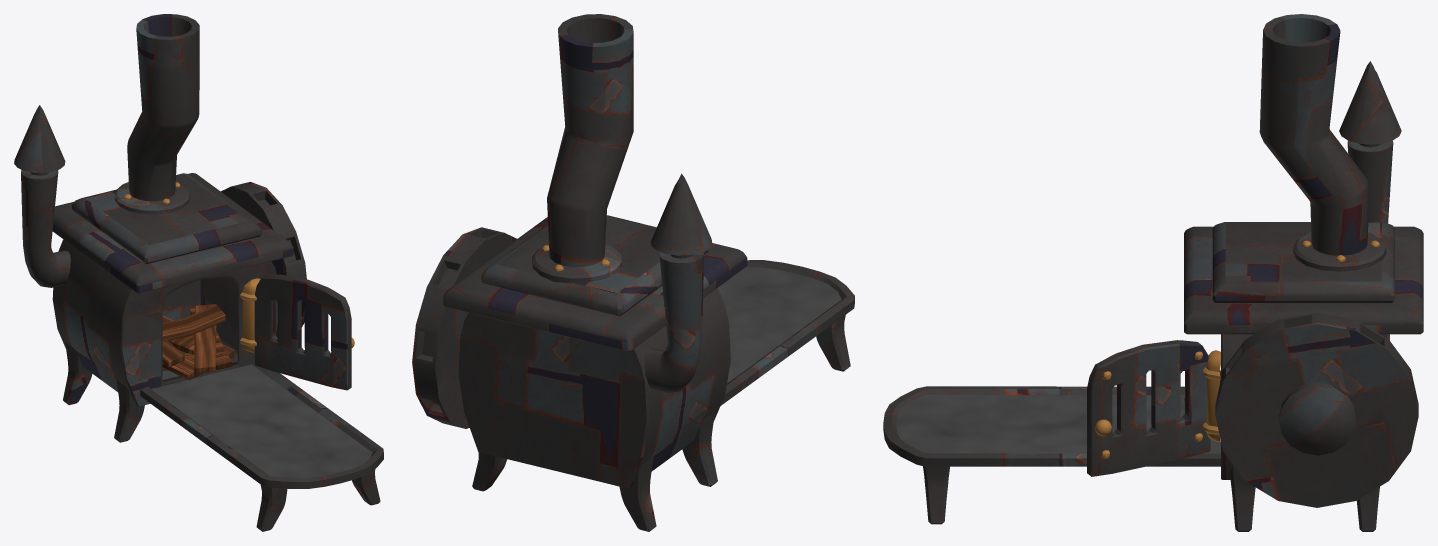
Rendered from Furnace.fbx.
3 renders of one model, left to right at view 1: azimuth 30°, elevation 25°; view 2: azimuth 150°, elevation 25°; view 3: azimuth 270°, elevation 25°, orthographic. The views are drawn at different scales.
Visible parts, largest first — view 1: Furnace, TileFurnaceTrackEnd, TileFurnaceTrack; view 2: Furnace, TileFurnaceTrackEnd, TileFurnaceTrack; view 3: Furnace, TileFurnaceTrackEnd, TileFurnaceTrack.
Boxes of the visible parts, bbox=[...] form: Furnace: bbox=[14, 14, 354, 442]; TileFurnaceTrackEnd: bbox=[207, 408, 383, 531]; TileFurnaceTrack: bbox=[140, 361, 327, 444]; Furnace: bbox=[412, 14, 747, 531]; TileFurnaceTrackEnd: bbox=[718, 260, 854, 371]; TileFurnaceTrack: bbox=[720, 336, 788, 405]; Furnace: bbox=[1087, 14, 1423, 531]; TileFurnaceTrackEnd: bbox=[883, 386, 1059, 524]; TileFurnaceTrack: bbox=[1059, 386, 1220, 466].
Bounding box in the file's own units: 2.47 × 3.67 × 3.91.
